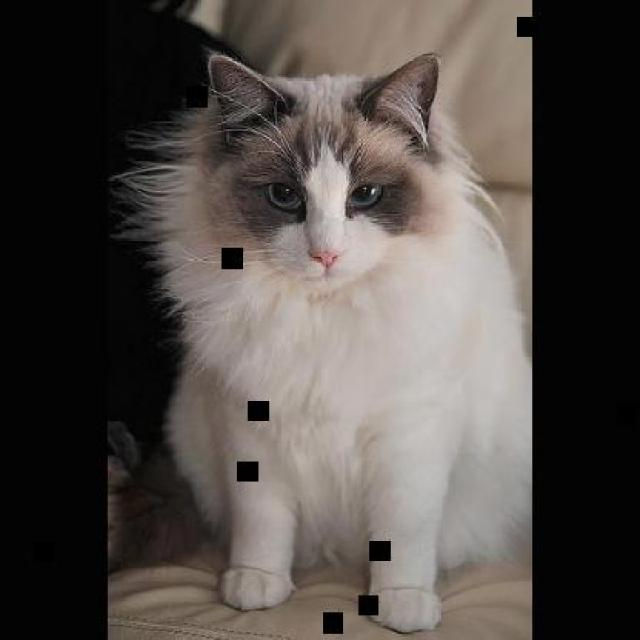unauthorized: (106, 45, 532, 632)
